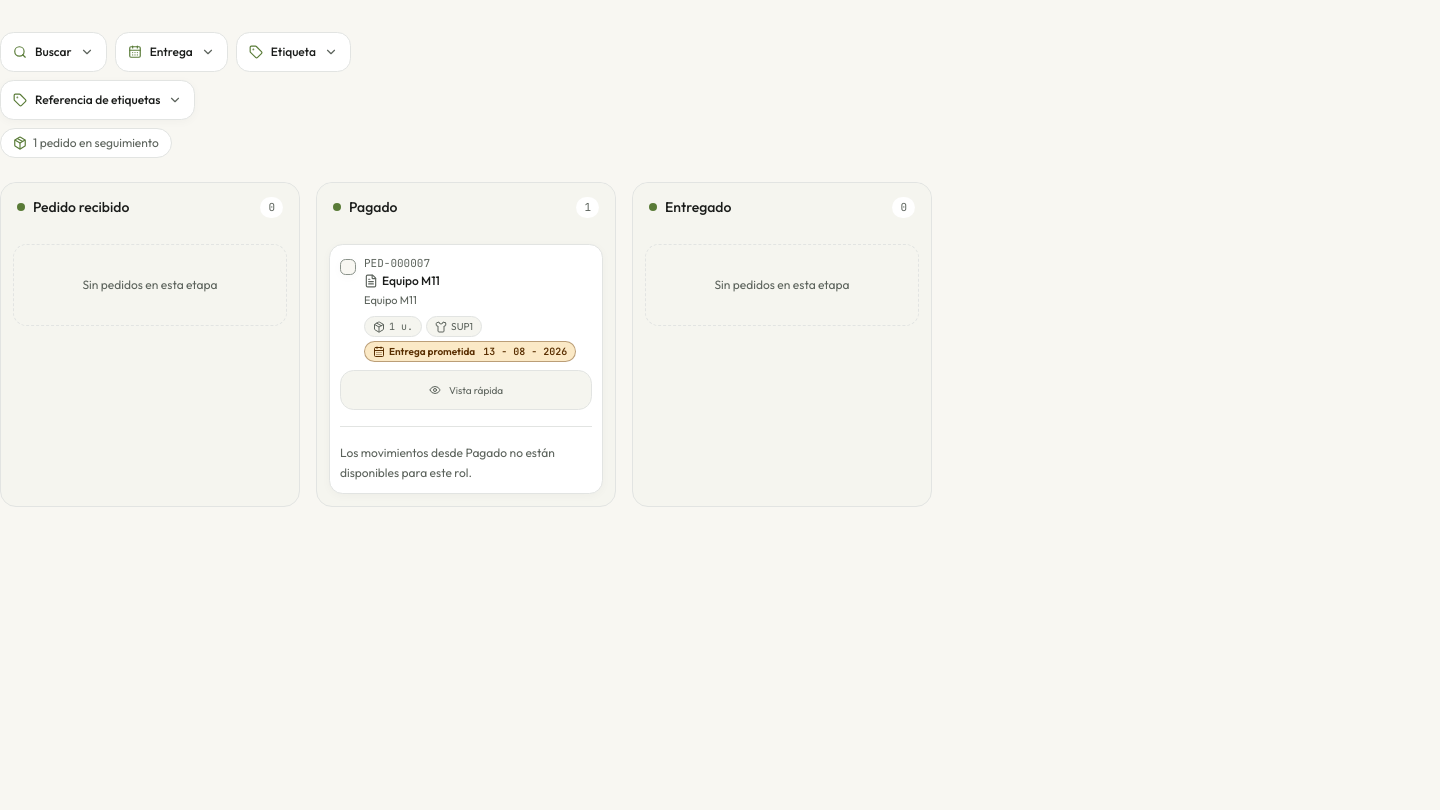
Test case: order board bulk lifecycle actions › does not allow archiving a paid order before it reaches the delivered stage
Click the checkbox named "Seleccionar PED-000007" at (348, 266), box left=340, top=258, right=356, bottom=274
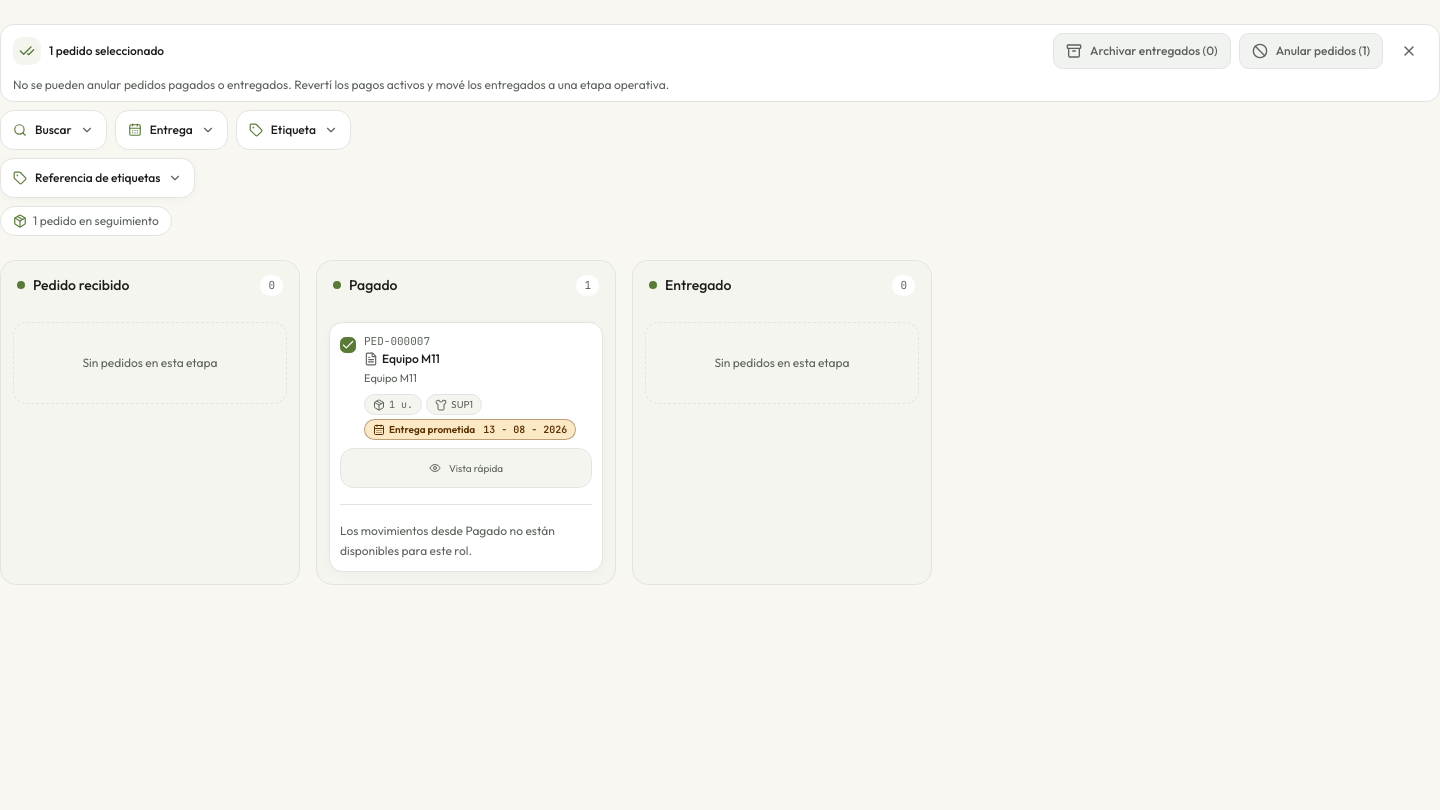
Now the button "Archivar entregados (0)" is disabled, box left=1053, top=33, right=1231, bottom=69
